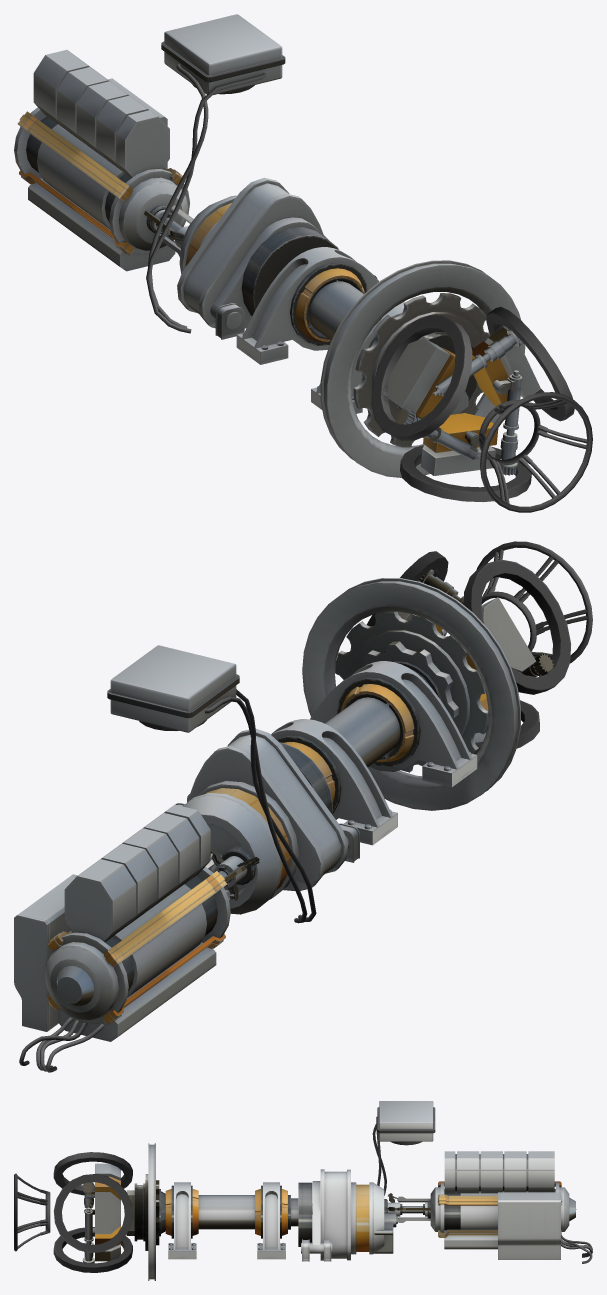
The model's file is equipment1.glb.
3 renders of one model, top to bottom at view 1: azimuth 30°, elevation 25°; view 2: azimuth 150°, elevation 25°; view 3: azimuth 270°, elevation 25°, orthographic. The views are drawn at different scales.
Visible parts, largest first — view 1: 变桨系统, 齿轮箱, 发电机, 转子, 主轴, 风冷装置, 油冷装置, 偏航电机; view 2: 变桨系统, 发电机, 主轴, 齿轮箱, 转子, 风冷装置, 油冷装置, 控制柜, 偏航电机; view 3: 变桨系统, 齿轮箱, 主轴, 发电机, 风冷装置, 控制柜, 油冷装置, 转子, 偏航电机.
Boxes of the visible parts, <box> form: 变桨系统: <box>353,293,592,512</box>; 齿轮箱: <box>177,177,377,339</box>; 发电机: <box>14,107,189,271</box>; 转子: <box>320,260,525,477</box>; 主轴: <box>236,247,405,413</box>; 风冷装置: <box>33,50,169,177</box>; 油冷装置: <box>146,14,285,333</box>; 偏航电机: <box>144,205,193,256</box>; 变桨系统: <box>335,541,592,772</box>; 发电机: <box>19,867,230,1072</box>; 主轴: <box>271,661,477,845</box>; 齿轮箱: <box>175,729,359,914</box>; 转子: <box>302,578,520,810</box>; 风冷装置: <box>64,804,210,942</box>; 油冷装置: <box>107,645,316,923</box>; 控制柜: <box>14,874,77,1031</box>; 偏航电机: <box>205,846,259,900</box>; 变桨系统: <box>14,1152,159,1272</box>; 齿轮箱: <box>298,1169,397,1261</box>; 主轴: <box>159,1182,298,1259</box>; 发电机: <box>430,1181,592,1263</box>; 风冷装置: <box>444,1151,554,1193</box>; 控制柜: <box>498,1192,560,1259</box>; 油冷装置: <box>372,1101,435,1195</box>; 转子: <box>148,1143,155,1280</box>; 偏航电机: <box>384,1193,430,1222</box>.
Bounding box in the file's own units: 408 × 545 × 1716.
1 material, 1 textured.
